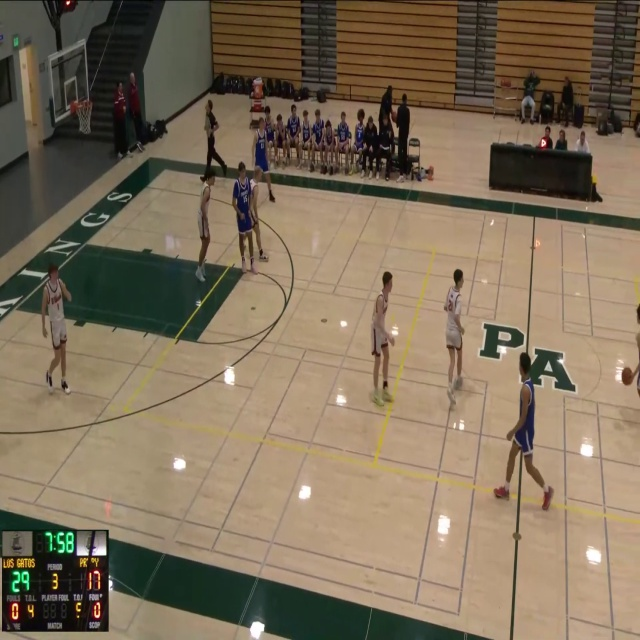Basketball: (622, 367, 633, 385)
